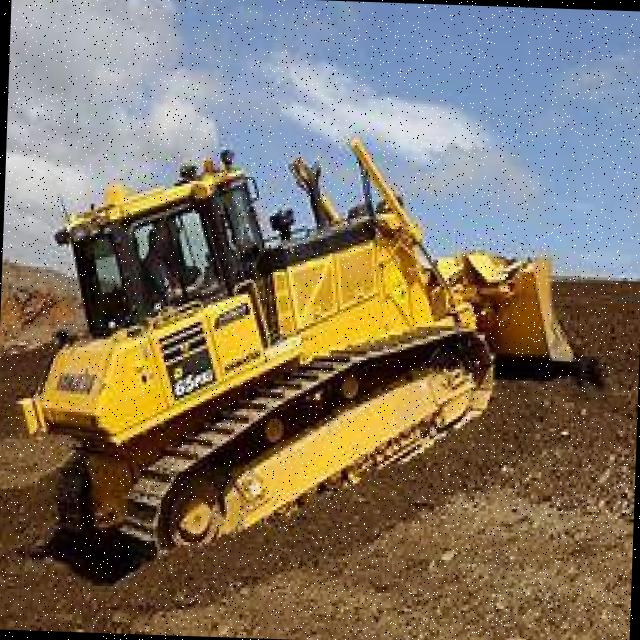Bulldozer: (15, 114, 588, 590)
